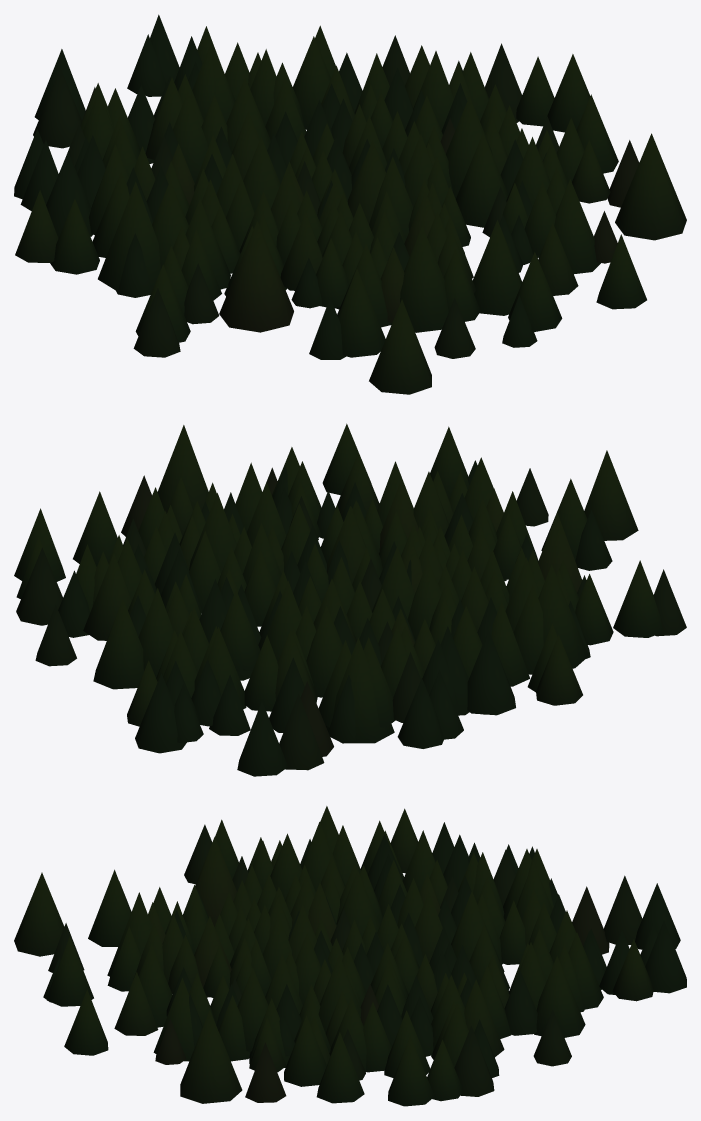
File: SM_PineForest004.fbx
3 views of the same model, one above another, from view 1: azimuth 30°, elevation 25°; view 2: azimuth 150°, elevation 25°; view 3: azimuth 270°, elevation 25° (orthographic). The views are drawn at different scales.
Visible parts, largest first — view 1: SM_PineForest004; view 2: SM_PineForest004; view 3: SM_PineForest004.
Part boxes in pixels (box(x1,y1,x2,y2)): SM_PineForest004: box(14, 14, 686, 394); SM_PineForest004: box(14, 423, 686, 776); SM_PineForest004: box(14, 806, 686, 1106).
Size of the model in its own units: 212 by 39.02 by 241.
